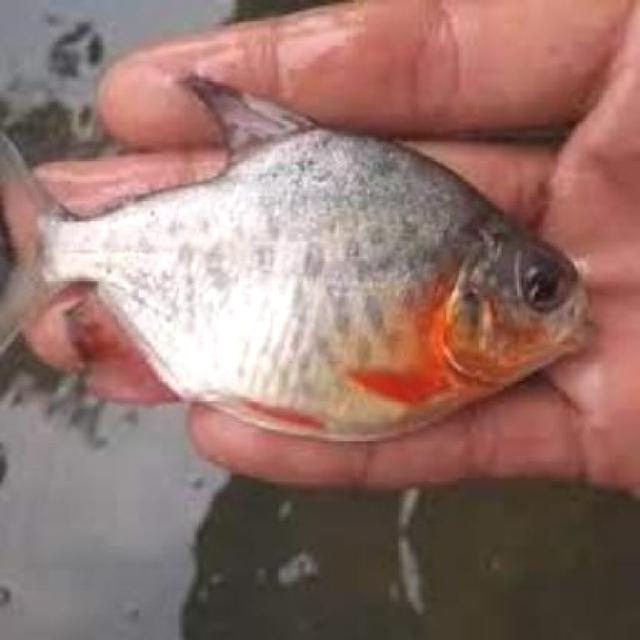ikan-pacu: (2, 104, 592, 430)
